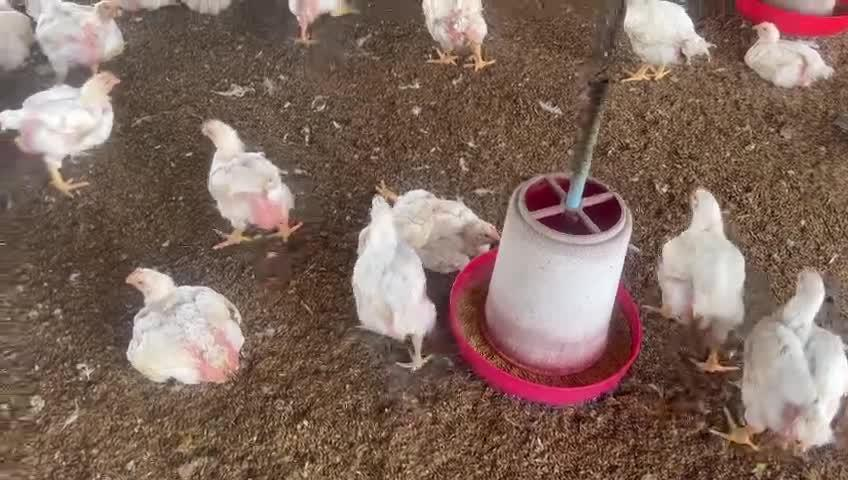AbNormal: (121, 264, 260, 396), (379, 173, 503, 271), (746, 16, 839, 90)
Normal: (729, 248, 848, 474), (651, 171, 746, 374), (198, 118, 320, 255), (352, 195, 440, 368), (3, 69, 122, 196), (616, 0, 718, 100), (34, 3, 138, 90), (415, 0, 507, 76)
